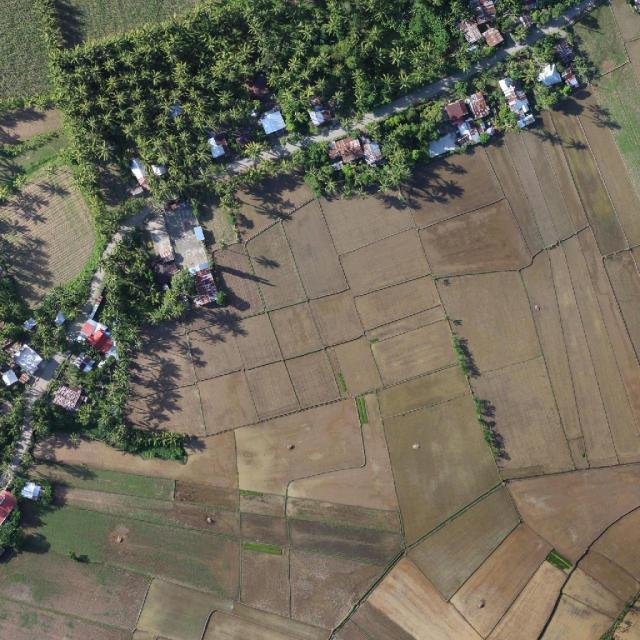agricultural_land: (0, 179, 111, 308), (66, 0, 195, 38)
building: (453, 0, 505, 54), (497, 72, 537, 129), (327, 134, 383, 169), (443, 90, 492, 129), (75, 316, 120, 356), (12, 343, 45, 376), (51, 385, 88, 414), (260, 107, 294, 135), (535, 62, 562, 89), (307, 103, 333, 127), (561, 67, 580, 91)
greenland: (296, 28, 591, 224), (34, 217, 230, 465), (210, 95, 466, 249)
